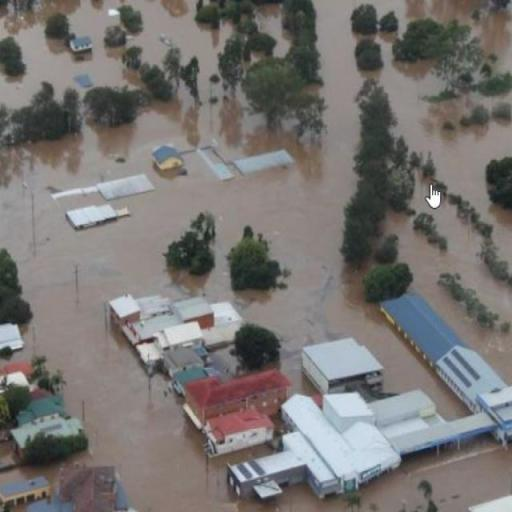flood: (0, 0, 512, 512), (385, 175, 512, 384), (0, 0, 139, 106), (351, 0, 512, 75), (359, 446, 512, 512)
house: (278, 390, 400, 495), (380, 295, 506, 393), (184, 364, 290, 460), (114, 293, 215, 356), (302, 332, 385, 402), (226, 451, 308, 503), (8, 412, 82, 454), (64, 462, 122, 512), (0, 475, 51, 511), (152, 143, 182, 173), (70, 36, 94, 54)
